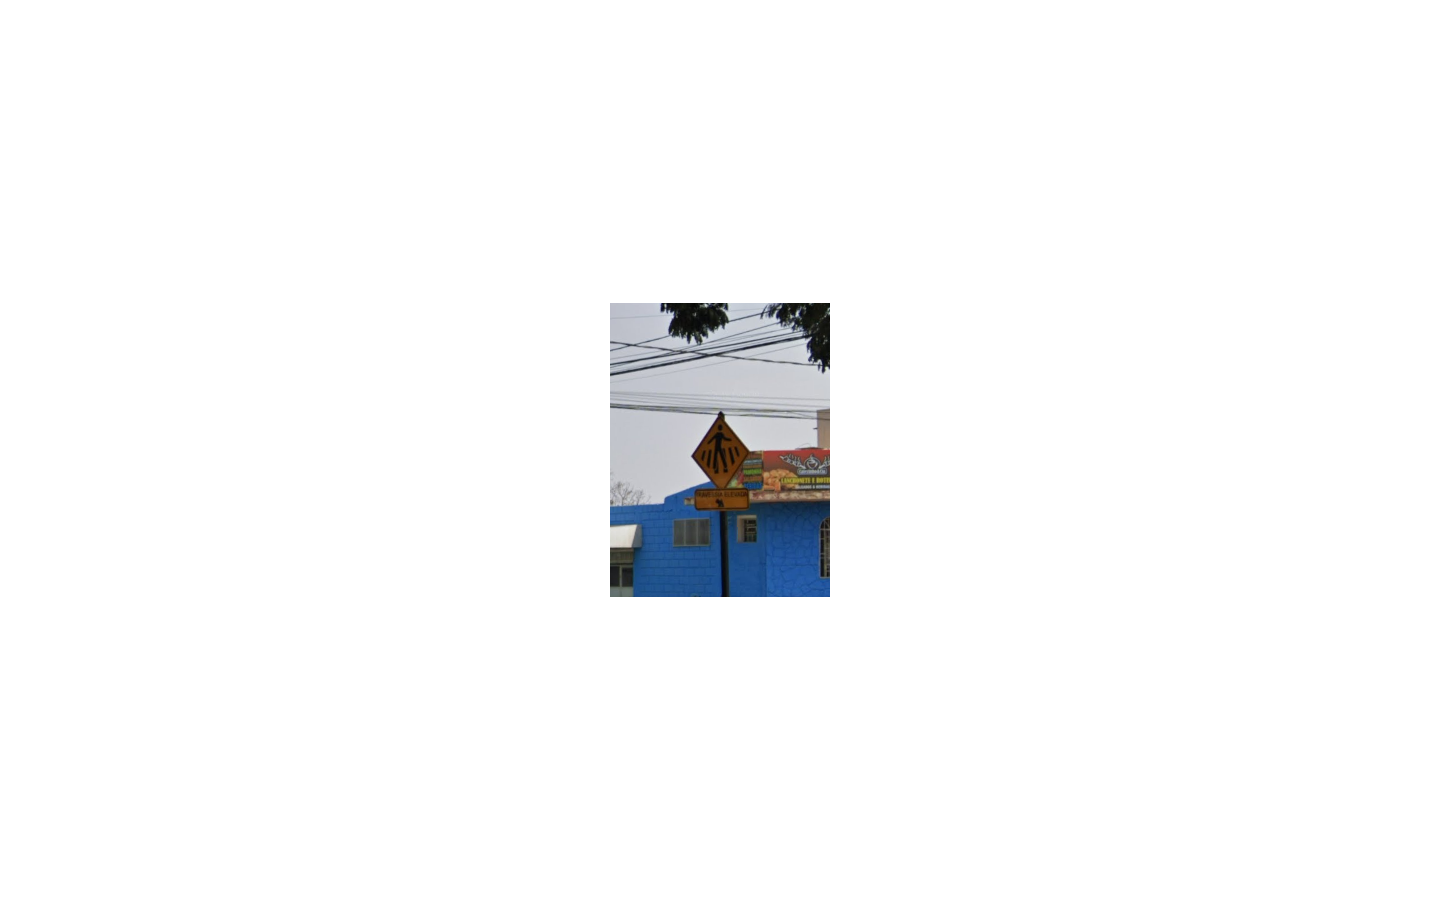telev: (691, 417, 749, 510)
